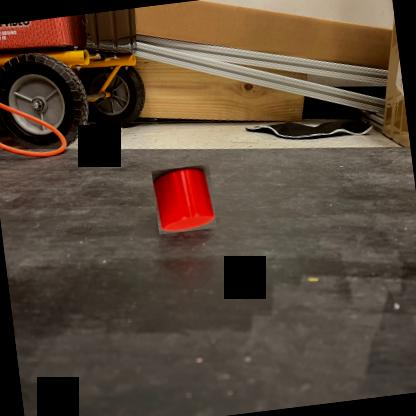red cylinder: (151, 164, 216, 235)
